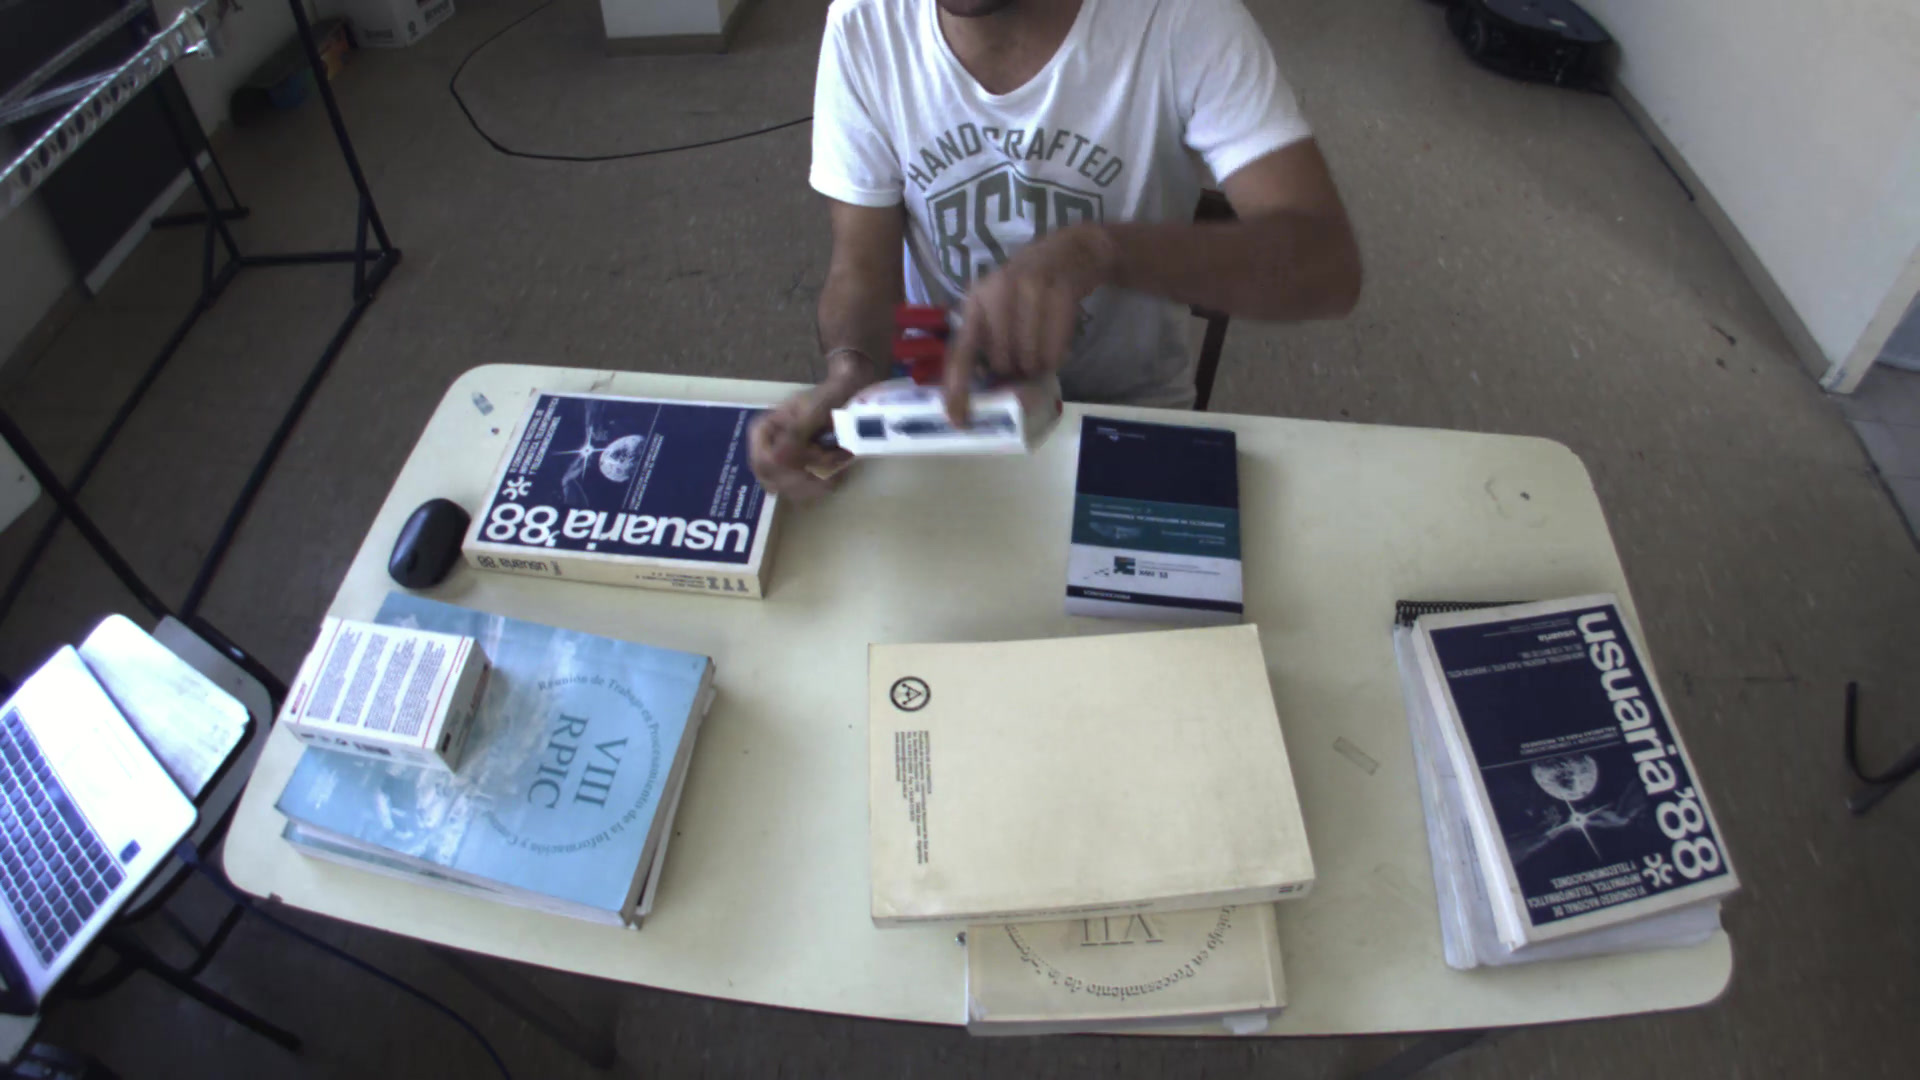hand: (940, 222, 1108, 392), (727, 372, 864, 509)
